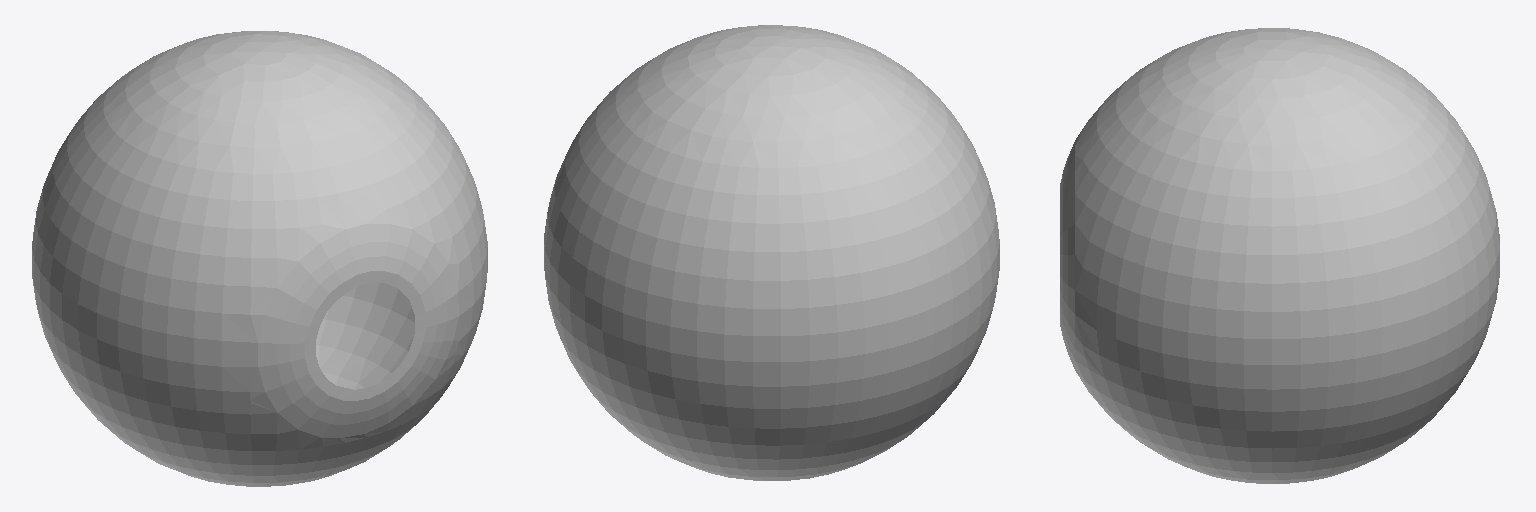
Rendered from eyewhiteI.obj.
3 renders of one model, left to right at view 1: azimuth 30°, elevation 25°; view 2: azimuth 150°, elevation 25°; view 3: azimuth 270°, elevation 25°, orthographic.
Visible parts, largest first — view 1: eye_white; view 2: eye_white; view 3: eye_white.
Part boxes in pixels (x1,y1,x2,y2): eye_white: (32,31,487,486); eye_white: (544,25,999,480); eye_white: (1060,28,1499,483).
Size of the model in its own units: 23.95 by 24 by 23.1.